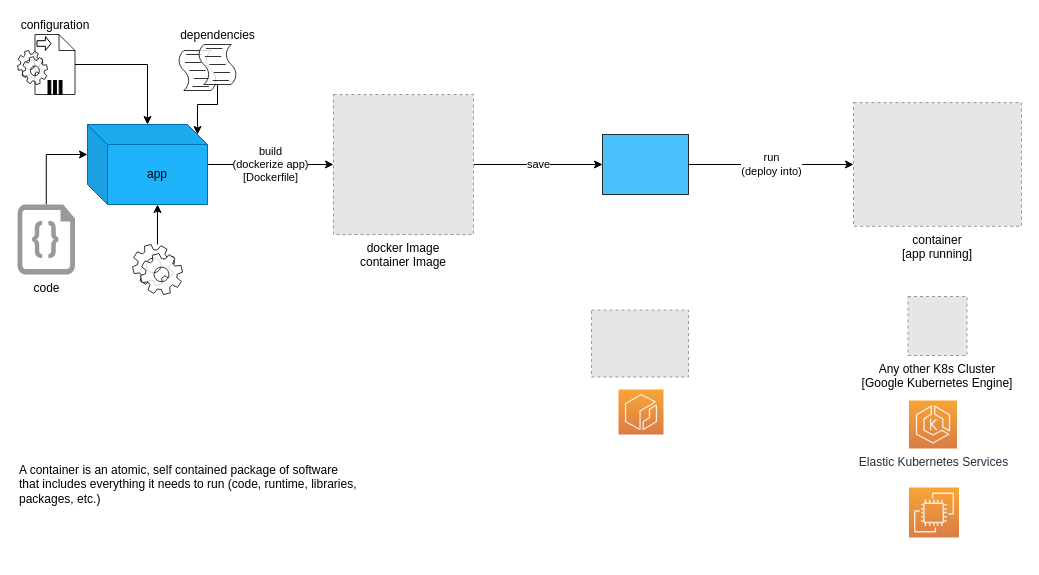
Image size: 1039x575. Some labels were removed from this diagram. Grey dashed boxes stand in for pictures. The centre of each missing label's shape, as x and y in pixels:
"Elastic Container Registry" goes at pixel 641 411.
"K8s on EC2" goes at pixel 933 512.
"repository" goes at pixel 645 164.
"runtime engine" goes at pixel 157 269.
